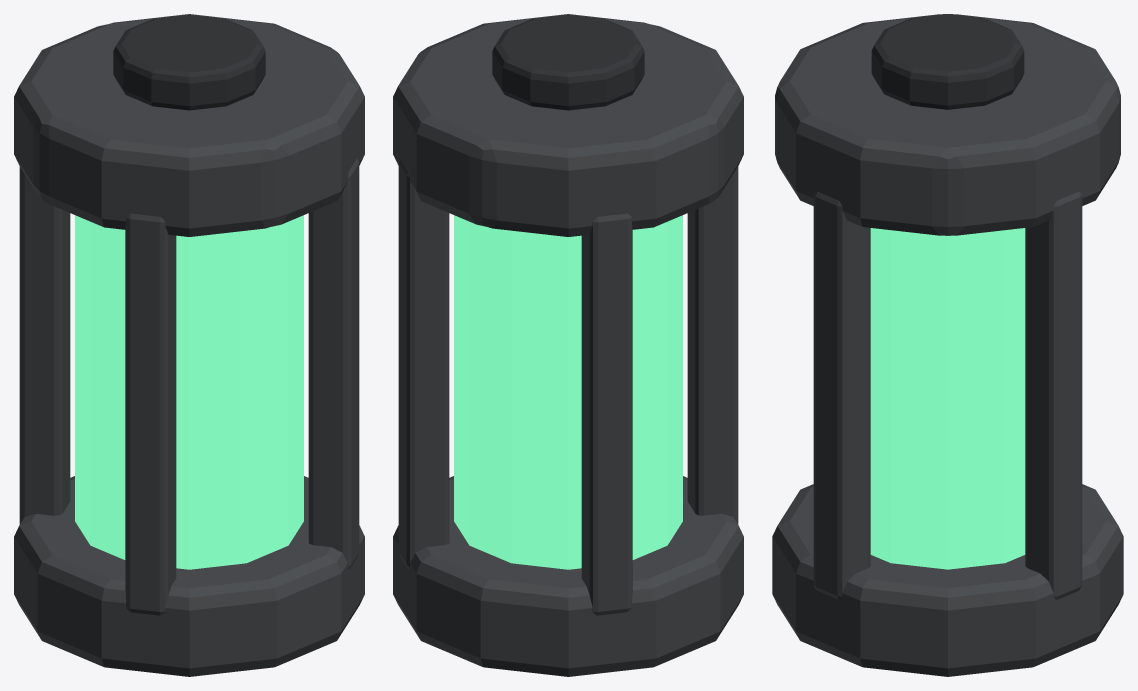
File: health_cell.glb
3 views of the same model, side by side, from view 1: azimuth 30°, elevation 25°; view 2: azimuth 150°, elevation 25°; view 3: azimuth 270°, elevation 25° (orthographic).
Visible parts, largest first — view 1: CellBody; view 2: CellBody; view 3: CellBody.
Part boxes in pixels (<box>): CellBody: <box>14,14,364,676</box>; CellBody: <box>393,14,743,676</box>; CellBody: <box>772,14,1123,676</box>.
Bounding box in the file's own units: 0.253 × 0.45 × 0.253.
